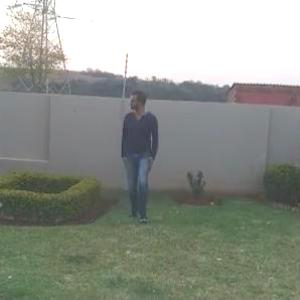follow: (113, 82, 160, 246)
